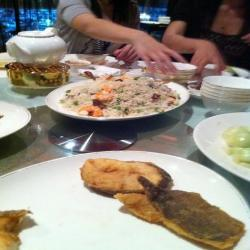rice: (63, 75, 178, 117)
salad: (224, 123, 250, 166)
